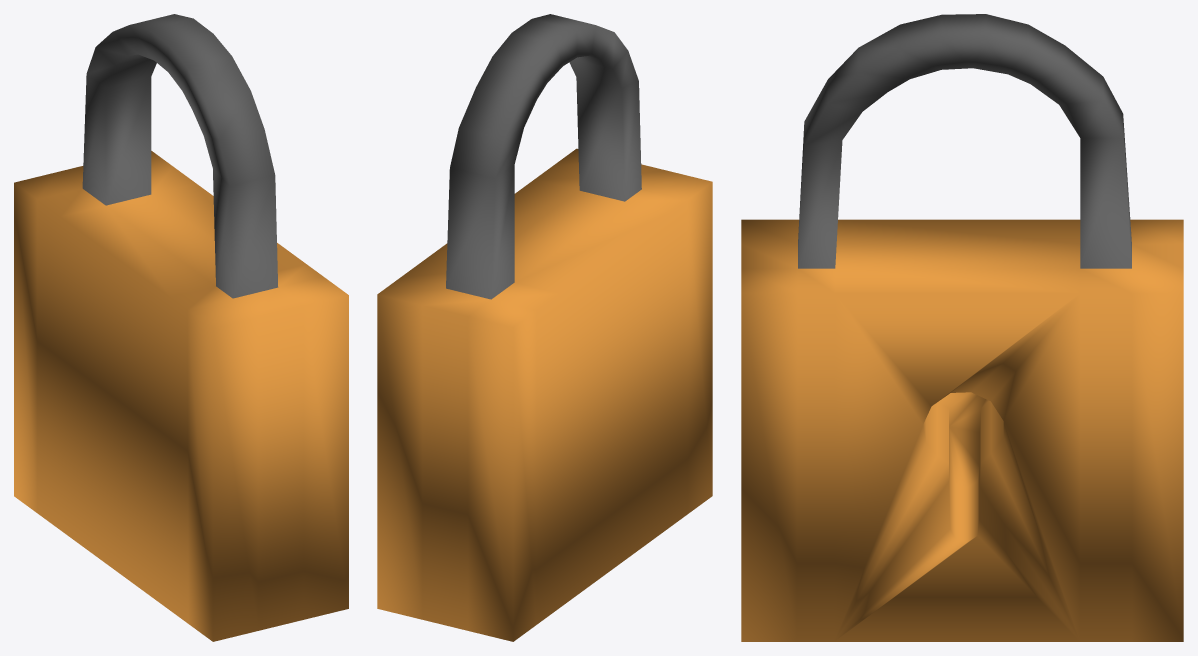
File: Locked.fbx
3 renders of one model, left to right at view 1: azimuth 30°, elevation 25°; view 2: azimuth 150°, elevation 25°; view 3: azimuth 270°, elevation 25°, orthographic. The views are drawn at different scales.
Visible parts, largest first — view 1: Cube; view 2: Cube; view 3: Cube.
Part boxes in pixels (left/top/right/bottom): Cube: left=14, top=14, right=348, bottom=641; Cube: left=377, top=14, right=712, bottom=641; Cube: left=741, top=14, right=1183, bottom=641.
Bounding box in the file's own units: 99.12 × 363 × 251.
